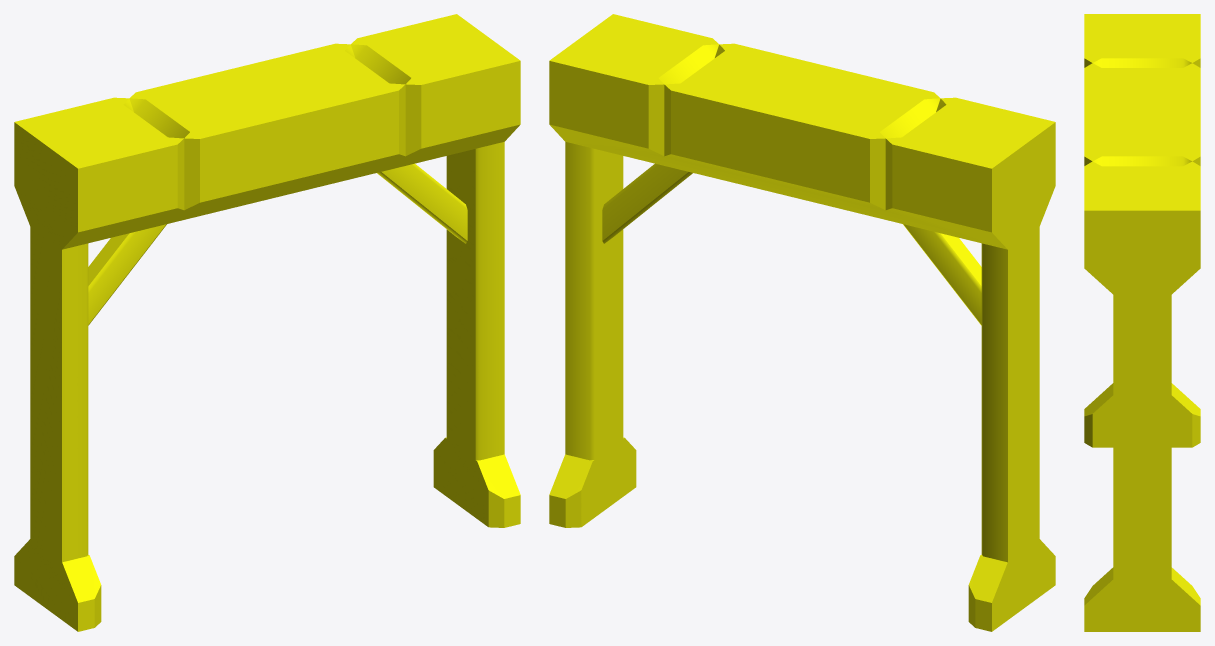
Rendered from kaykit-wall-open-scaffold.glb.
The picture shows the model from 3 angles, left to right: view 1: azimuth 30°, elevation 25°; view 2: azimuth 150°, elevation 25°; view 3: azimuth 270°, elevation 25°; orthographic projection. The views are drawn at different scales.
Visible parts, largest first — view 1: wall_open_scaffold; view 2: wall_open_scaffold; view 3: wall_open_scaffold.
Part boxes in pixels (x1,y1,x2,y2): wall_open_scaffold: (14,14,520,631); wall_open_scaffold: (549,14,1055,631); wall_open_scaffold: (1084,14,1200,631).
Size of the model in its own units: 4 by 4 by 1.
